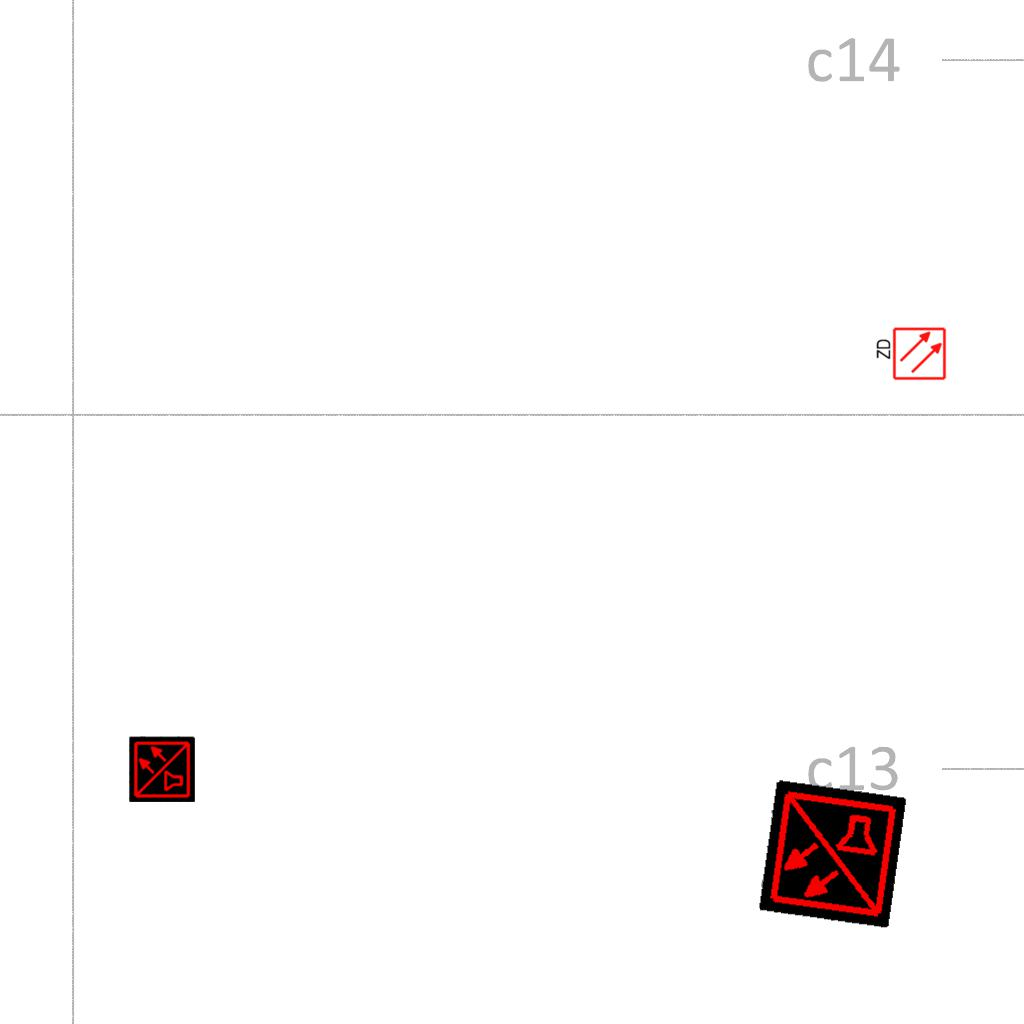OKW_Multisensormelder_(Kombination_optischer_Rauch-Kahlenmonoxid_Waerme-Melder): (757, 779, 907, 929), (129, 736, 195, 802)
ZD_Melder_in_Zwischendecke_mit_Revisionsoeffnung_mind_40_x_40_cm: (873, 326, 947, 383)
